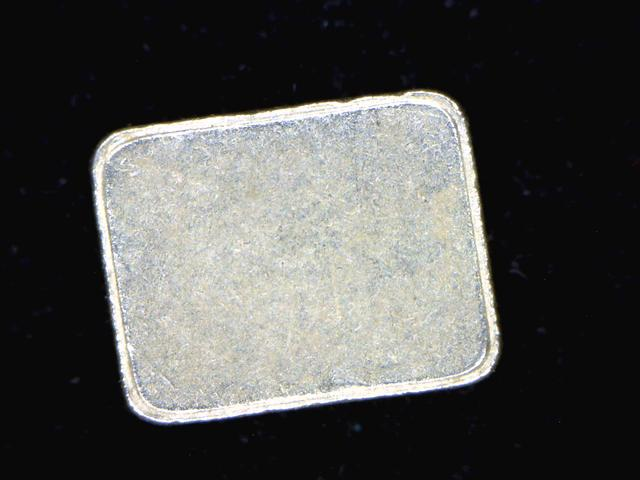nok: (86, 90, 514, 426)
